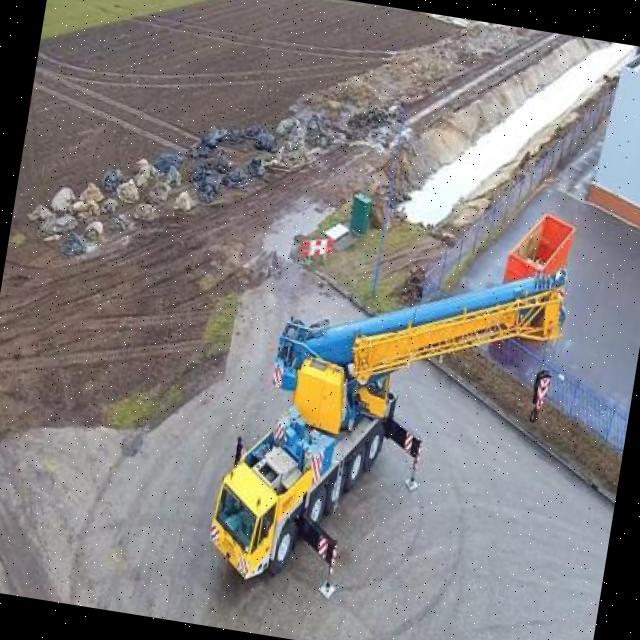Mobile Crane: (202, 213, 572, 635)
